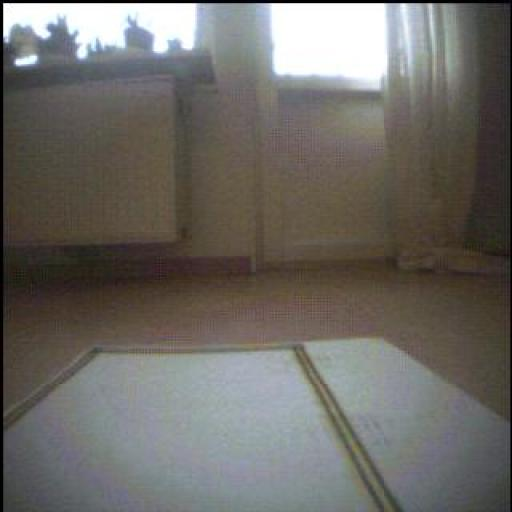Pad: (5, 340, 512, 512)
